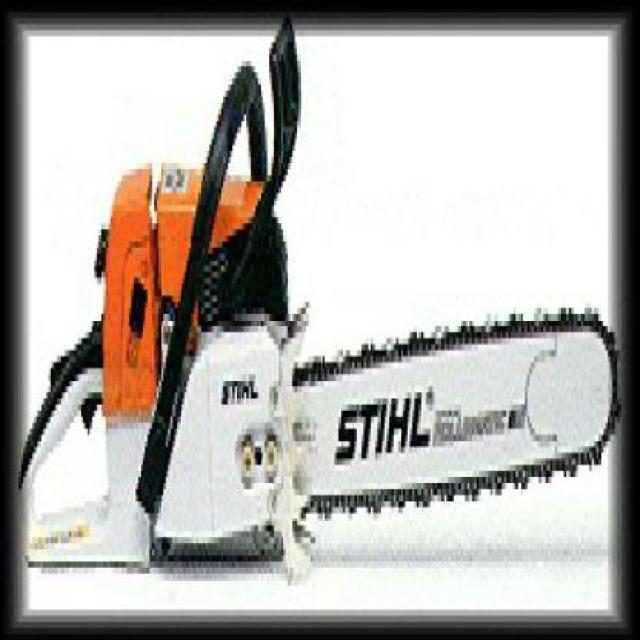Chainsaw: (17, 23, 620, 579)
